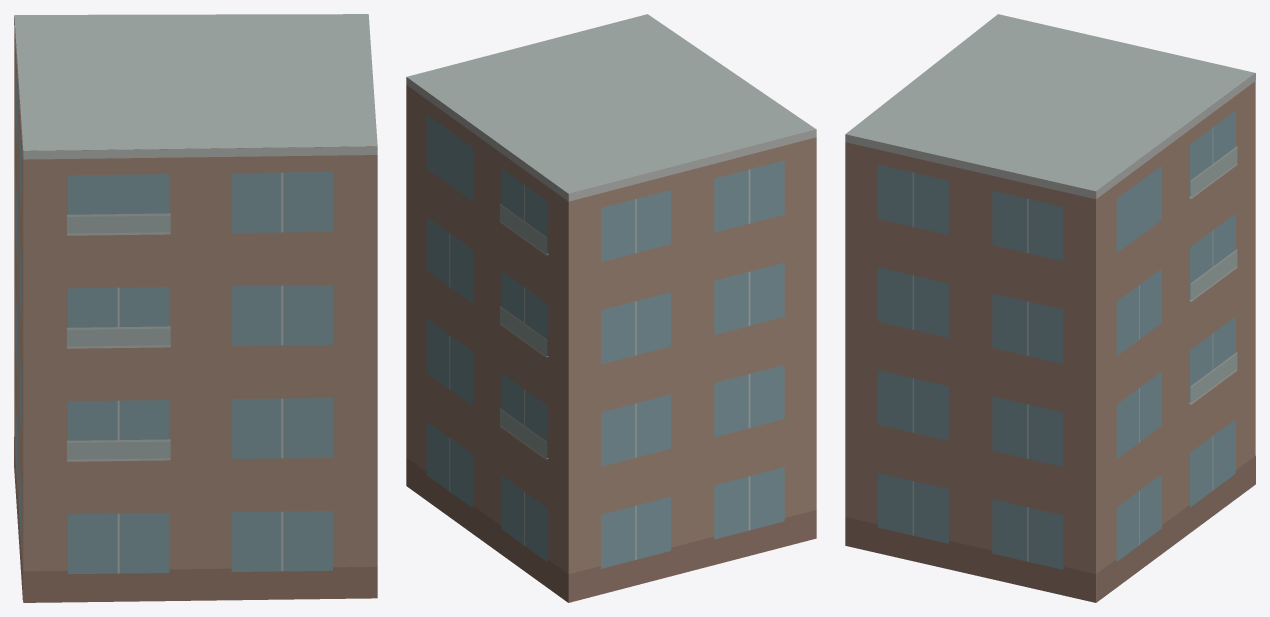
File: survey-upis-32793395.glb
The picture shows the model from 3 angles, left to right: view 1: azimuth 30°, elevation 25°; view 2: azimuth 150°, elevation 25°; view 3: azimuth 270°, elevation 25°; orthographic projection. The views are drawn at different scales.
Parts seen in each view (by area): view 1: survey-upis-32793395.tmp; view 2: survey-upis-32793395.tmp; view 3: survey-upis-32793395.tmp.
Part boxes in pixels (x1,y1,x2,y2): survey-upis-32793395.tmp: (14,14,377,602); survey-upis-32793395.tmp: (406,14,816,602); survey-upis-32793395.tmp: (845,14,1255,602).
Bounding box in the file's own units: 11.75 × 12.7 × 11.49.
